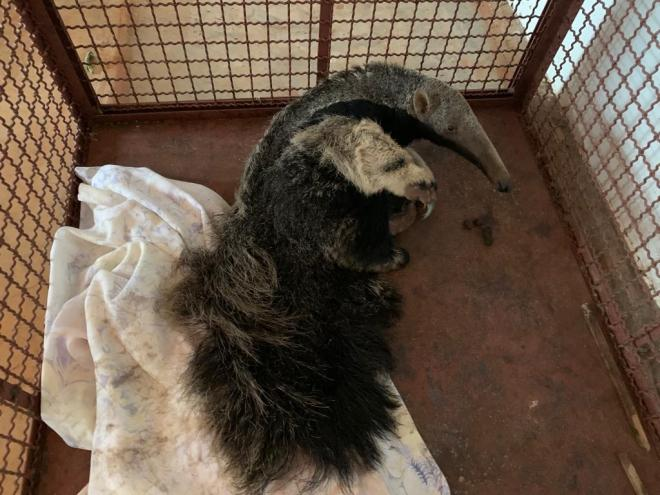TamanduaBandeira: (196, 62, 518, 444)
